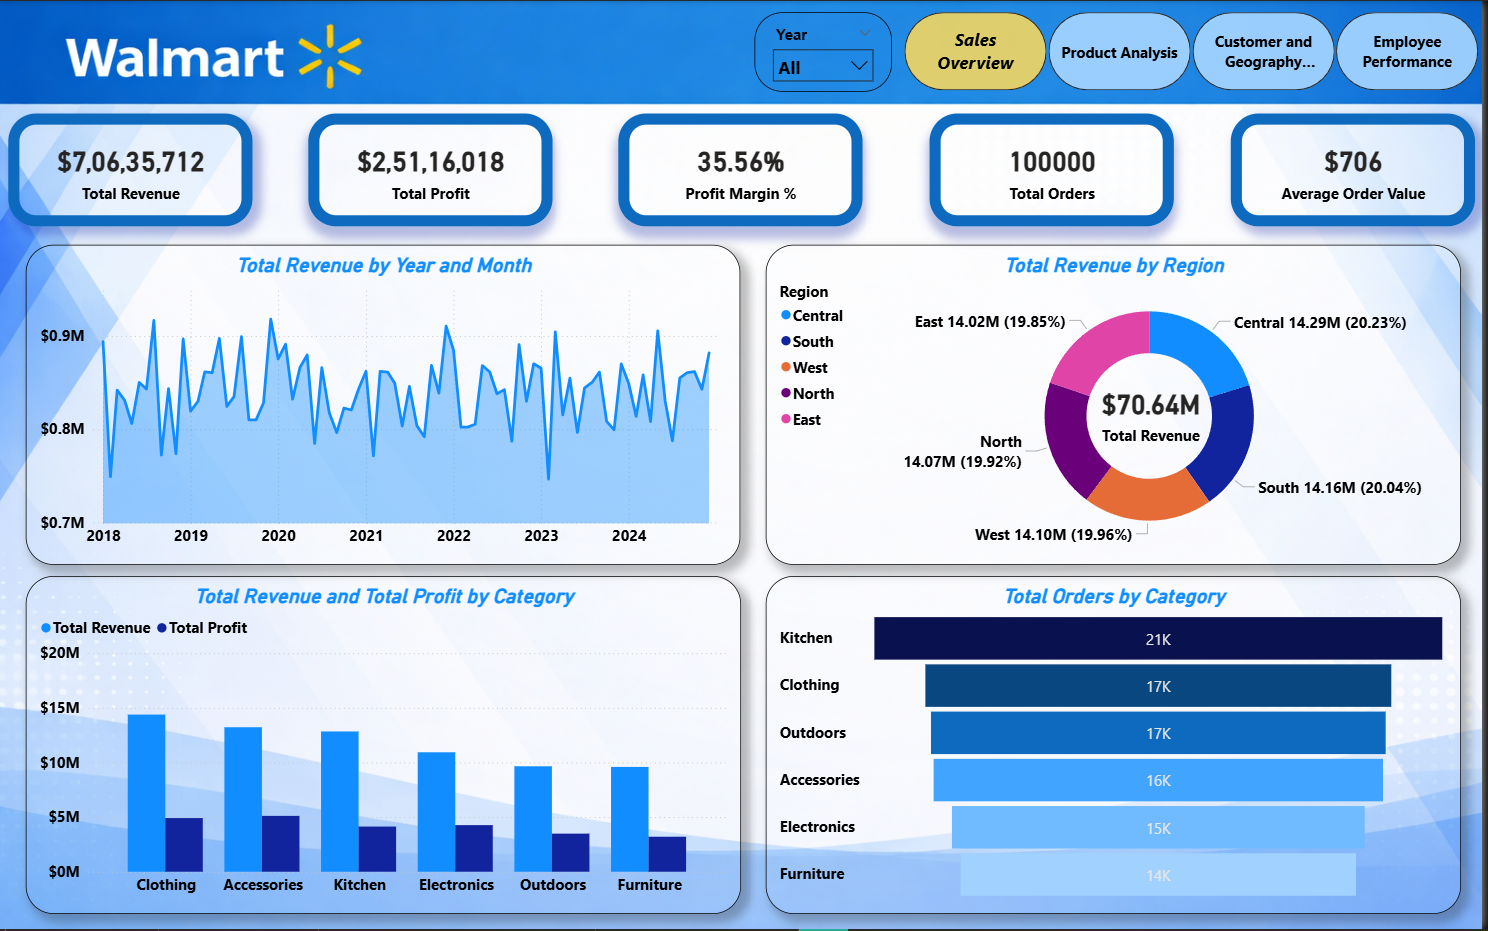

The dashboard page shown, as its layout file describes it:
{"tool":"powerbi","page":{"name":"Sales Overview","canvas":[1600,1000],"ordinal":0},"visuals":[{"type":"pageNavigator","box":[977.5,12.6,620.4,84.8],"z":0,"group":"g1"},{"type":"card","fields":{"Values":["MeasureTable.Total Revenue"]},"box":[11.7,121.7,263.3,121.7],"z":0},{"type":"lineChart","fields":{"Category":["DimDate.Date.Variation.Date Hierarchy.Year","DimDate.Date.Variation.Date Hierarchy.Month"],"Y":["MeasureTable.Total Revenue"]},"box":[31.1,262.5,769.8,344.8],"z":1000},{"type":"card","fields":{"Values":["MeasureTable.Total Profit"]},"box":[335,121.7,263.3,121.7],"z":2000},{"type":"donutChart","fields":{"Category":["DimGeography.Region"],"Y":["MeasureTable.Total Revenue"]},"box":[827.8,263.3,748.4,344.5],"z":3000},{"type":"card","fields":{"Values":["MeasureTable.Profit Margin %"]},"box":[668.3,121.7,263.3,121.7],"z":4000},{"type":"clusteredColumnChart","fields":{"Category":["DimProduct.Category"],"Y":["MeasureTable.Total Revenue","MeasureTable.Total Profit"]},"box":[30.7,620.4,770.1,364.3],"z":5000},{"type":"slicer","fields":{"Values":["DimDate.Year"]},"box":[816,13.3,148,85.4],"z":6000,"group":"g1"},{"type":"card","fields":{"Values":["MeasureTable.Total Orders"]},"box":[1003.3,121.7,263.3,121.7],"z":6000},{"type":"card","fields":{"Values":["MeasureTable.Average Order Value"]},"box":[1328.3,121.7,263.3,121.7],"z":7000},{"type":"funnel","fields":{"Category":["DimProduct.Category"],"Y":["MeasureTable.Total Orders"]},"box":[827.8,620.4,748.4,364.3],"z":8000},{"type":"card","fields":{"Values":["MeasureTable.Total Revenue"]},"box":[1156,396.8,173.1,95.6],"z":9000},{"type":"group","id":"g1","title":"Group 1","box":[816,12.6,781.9,86],"z":9001}]}

Visuals, with their boxes in screenshot pixels (x1, y1, x2, y2), scaled from the page's 1600x1000 canvas onto the 1488x931 screenshot:
pageNavigator: BBox(909, 12, 1486, 91)
card - MeasureTable.Total Revenue: BBox(11, 113, 256, 227)
lineChart - DimDate.Date.Variation.Date Hierarchy.Year x DimDate.Date.Variation.Date Hierarchy.Month: BBox(29, 244, 745, 565)
card - MeasureTable.Total Profit: BBox(312, 113, 556, 227)
donutChart - DimGeography.Region x MeasureTable.Total Revenue: BBox(770, 245, 1466, 566)
card - MeasureTable.Profit Margin %: BBox(622, 113, 866, 227)
clusteredColumnChart - DimProduct.Category x MeasureTable.Total Revenue: BBox(29, 578, 745, 917)
slicer - DimDate.Year: BBox(759, 12, 897, 92)
card - MeasureTable.Total Orders: BBox(933, 113, 1178, 227)
card - MeasureTable.Average Order Value: BBox(1235, 113, 1480, 227)
funnel - DimProduct.Category x MeasureTable.Total Orders: BBox(770, 578, 1466, 917)
card - MeasureTable.Total Revenue: BBox(1075, 369, 1236, 458)
"Group 1" group: BBox(759, 12, 1486, 92)
